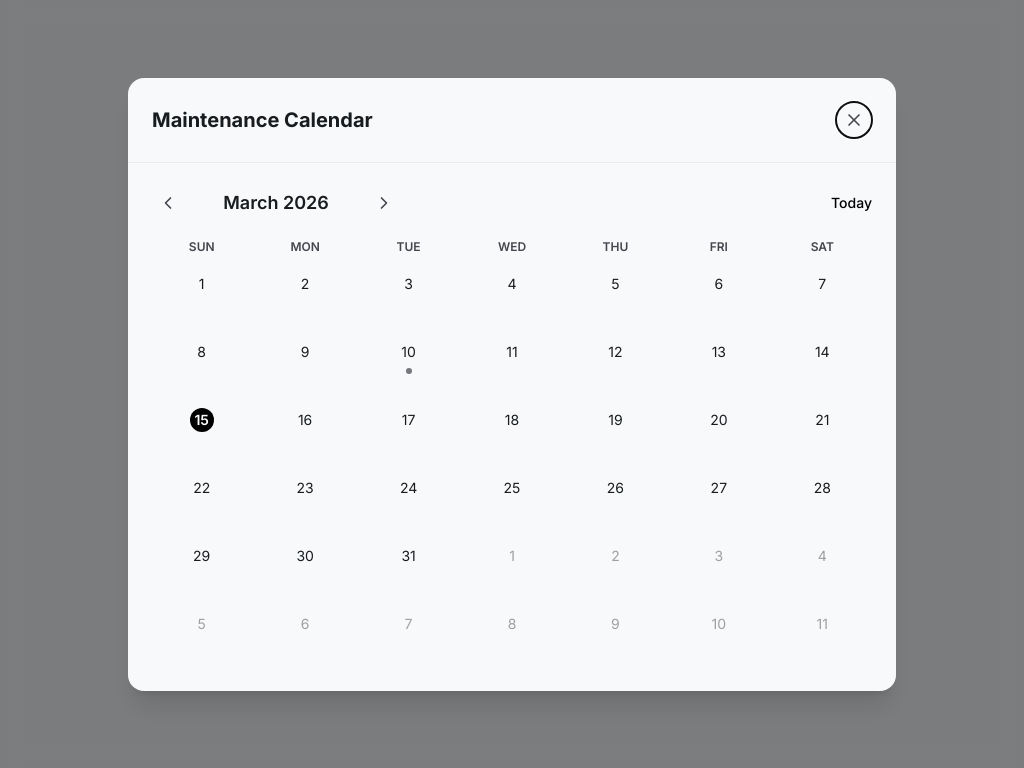
it: MaintenanceCalendarModal — day detail › lists the records of the clicked day and hides them again on a second click
The width and height of the screenshot is (1024, 768).
Click the 1st button "10".
click(408, 362)  # box [359,330,458,394]
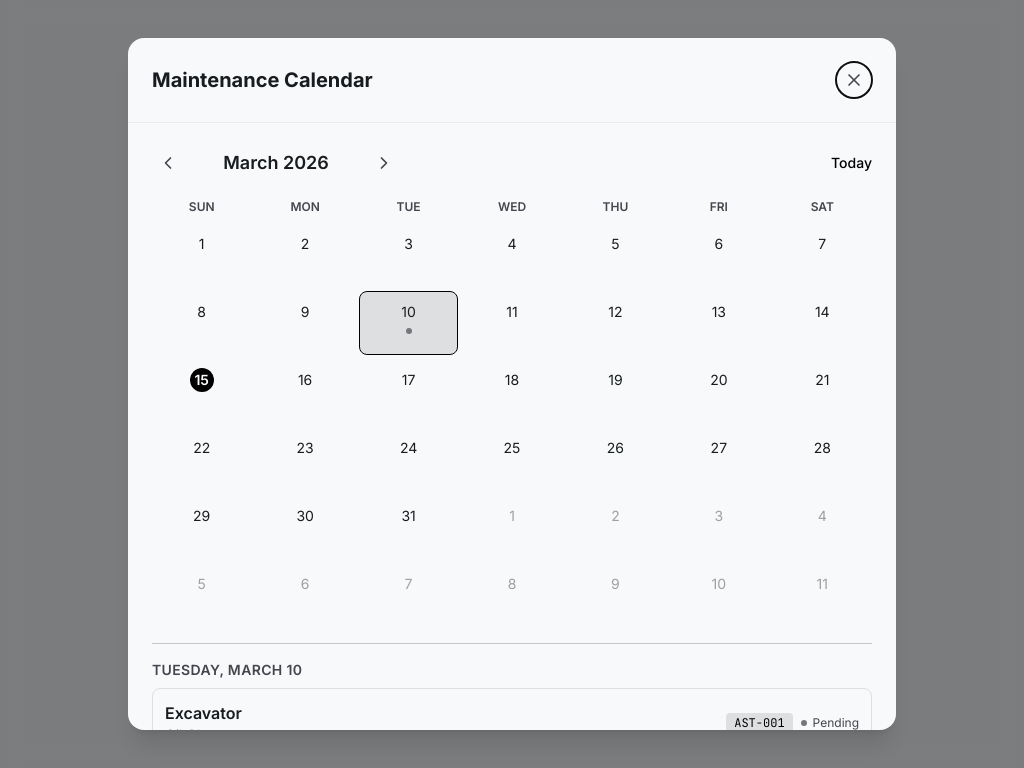
Click the 1st button "10".
click(408, 323)  # box [359,291,458,355]
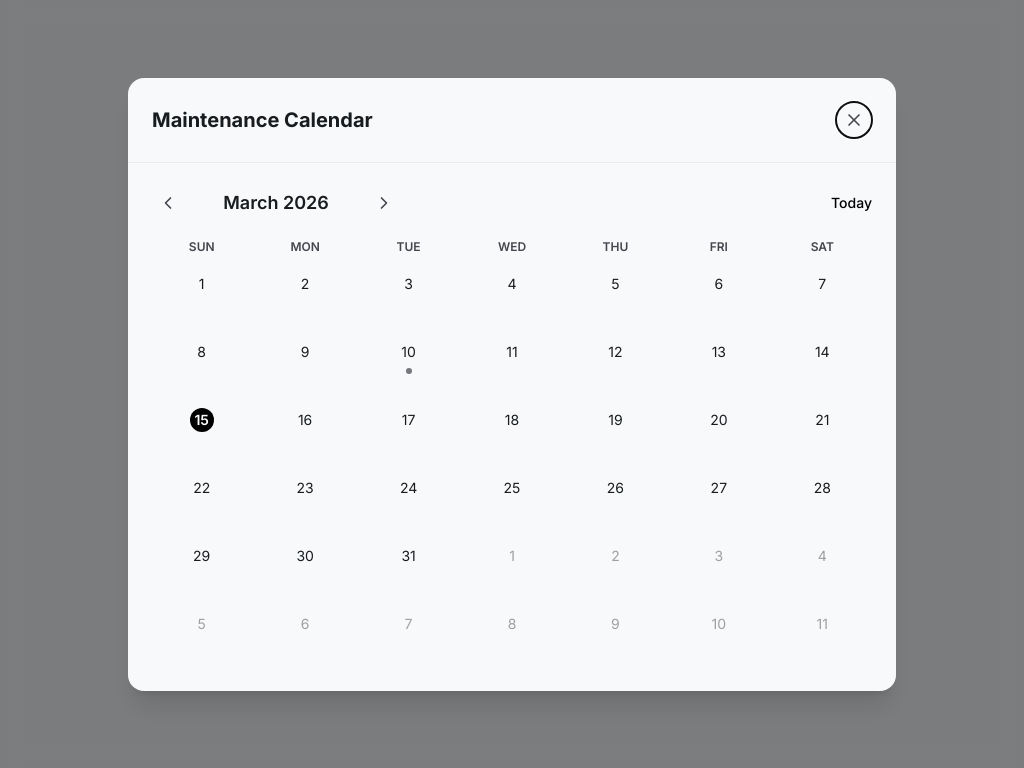
Expected: the button "Oil Change" is gone
